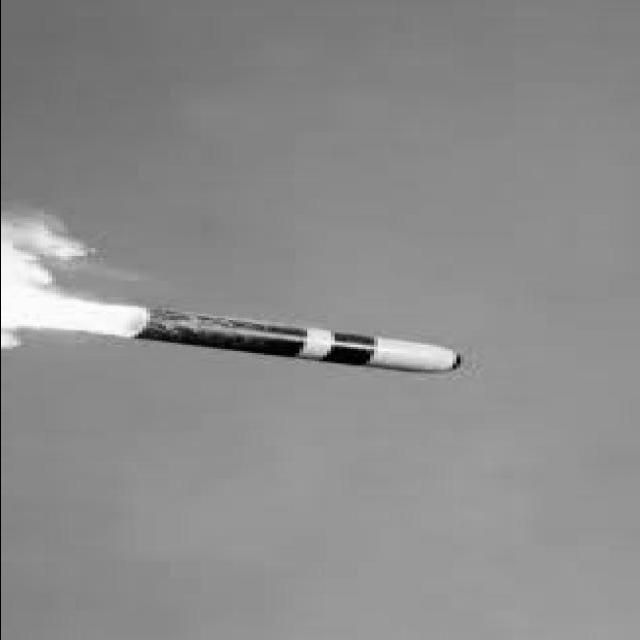missile: (122, 309, 499, 376)
